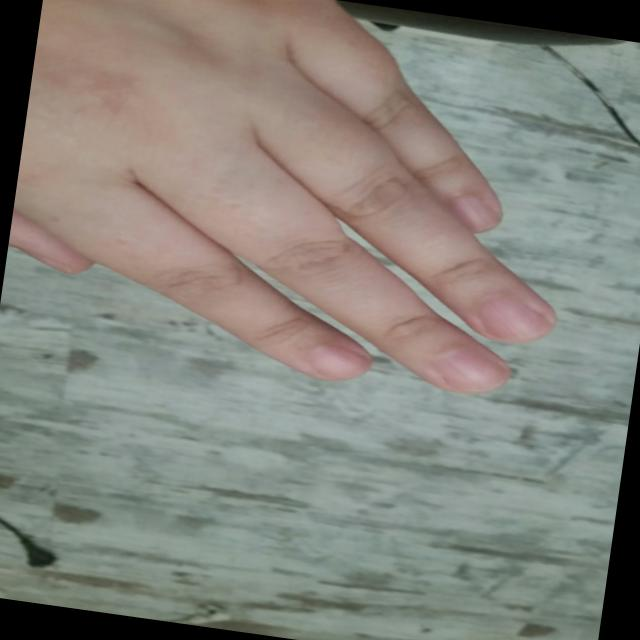Nail: (477, 297, 554, 342), (435, 350, 508, 390), (310, 344, 368, 377), (447, 194, 496, 231), (18, 246, 72, 274)
